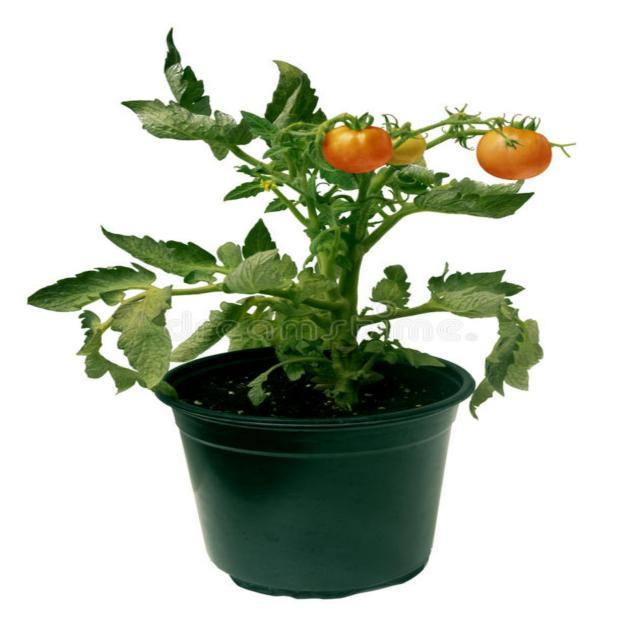tomato: (27, 31, 554, 414)
